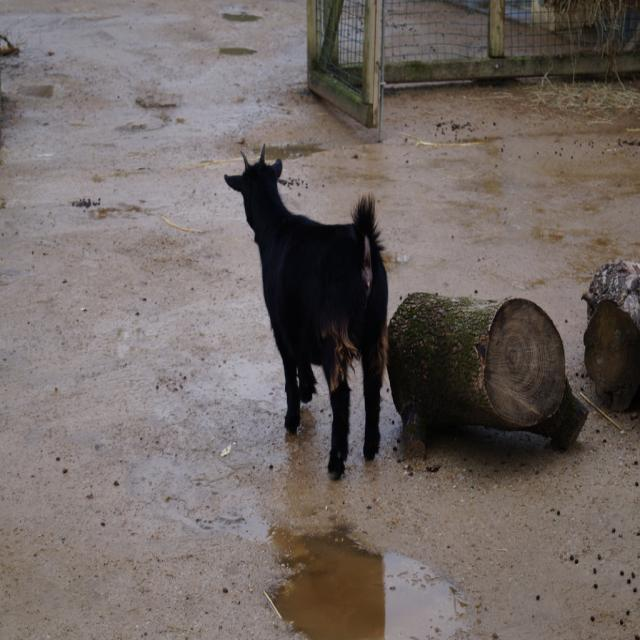Goat: (224, 145, 388, 479)
